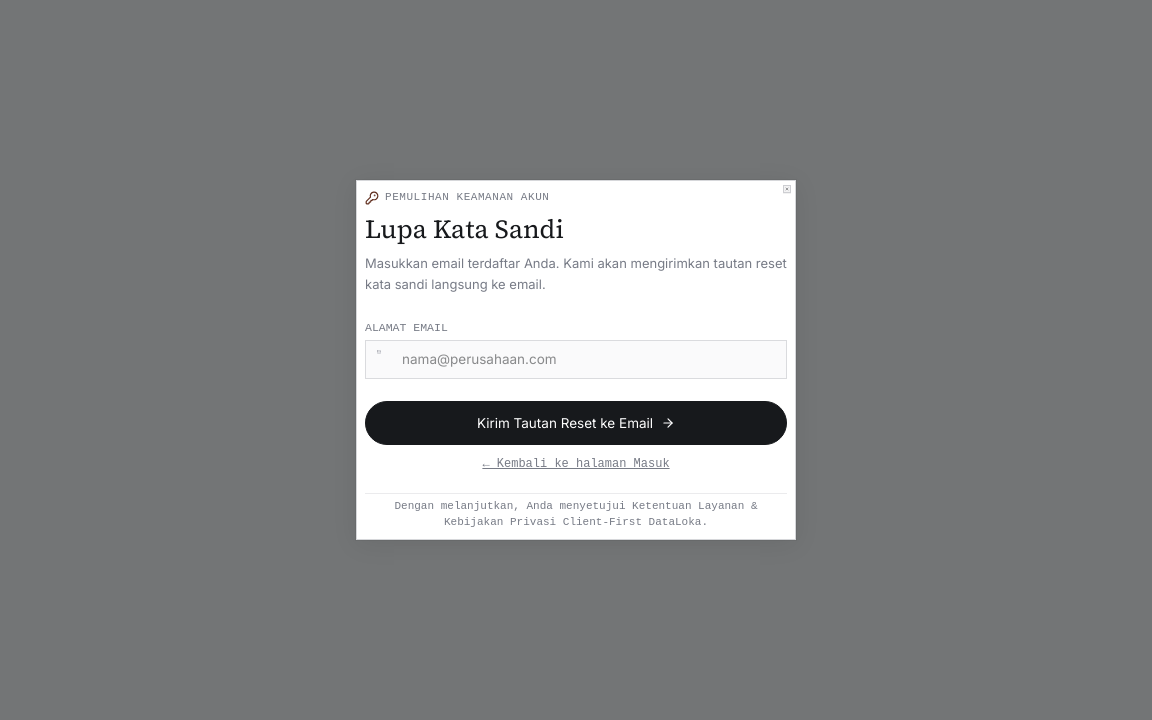
Test: Modul Firebase Auth & Cloud Workspace Storage › 3. useAuthStore & UI Components › should open Forgot Password tab and send reset email
The width and height of the screenshot is (1152, 720).
Check: the heading "Lupa Kata Sandi" is shown, box top-left (365, 211), bottom-right (564, 247)
Check: the text "Masukkan email terdaftar Anda" is shown, box top-left (365, 255), bottom-right (787, 292)
Type "forgot.user@dataloka.id" into the field with placeholder "nama@perusahaan.com". click: (576, 360)
box: top-left (365, 340), bottom-right (787, 379)
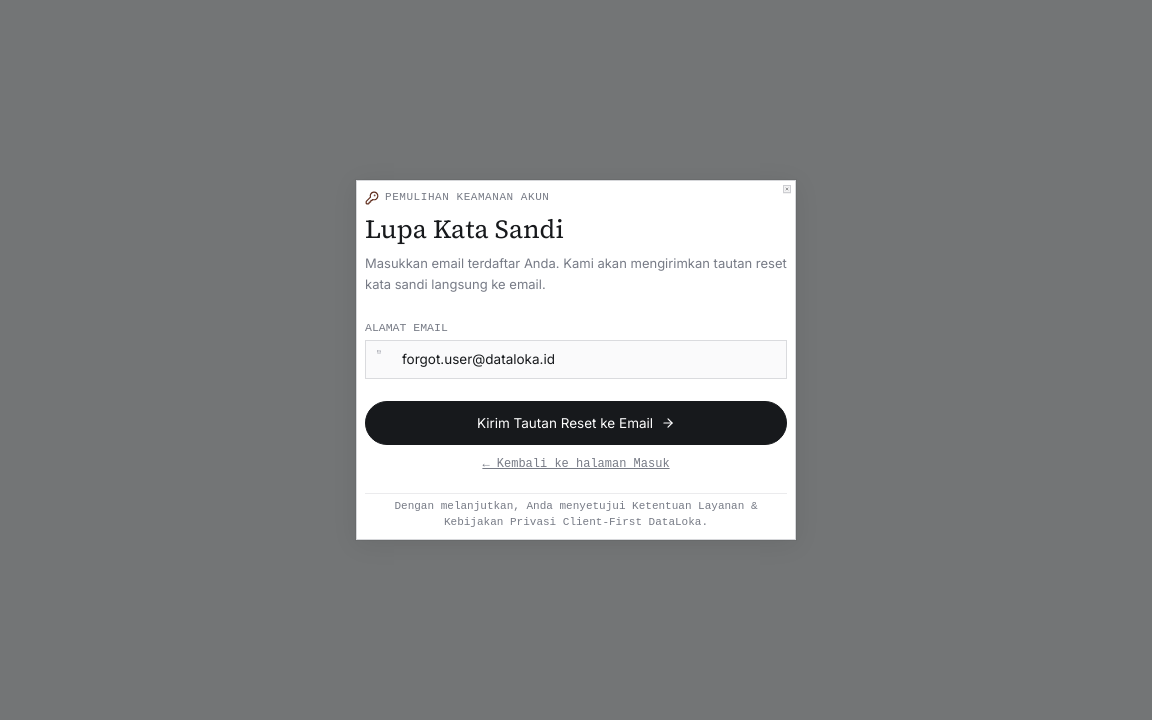
Click the button "Kirim Tautan Reset ke Email". click: click(576, 423)
box: top-left (365, 401), bottom-right (787, 445)
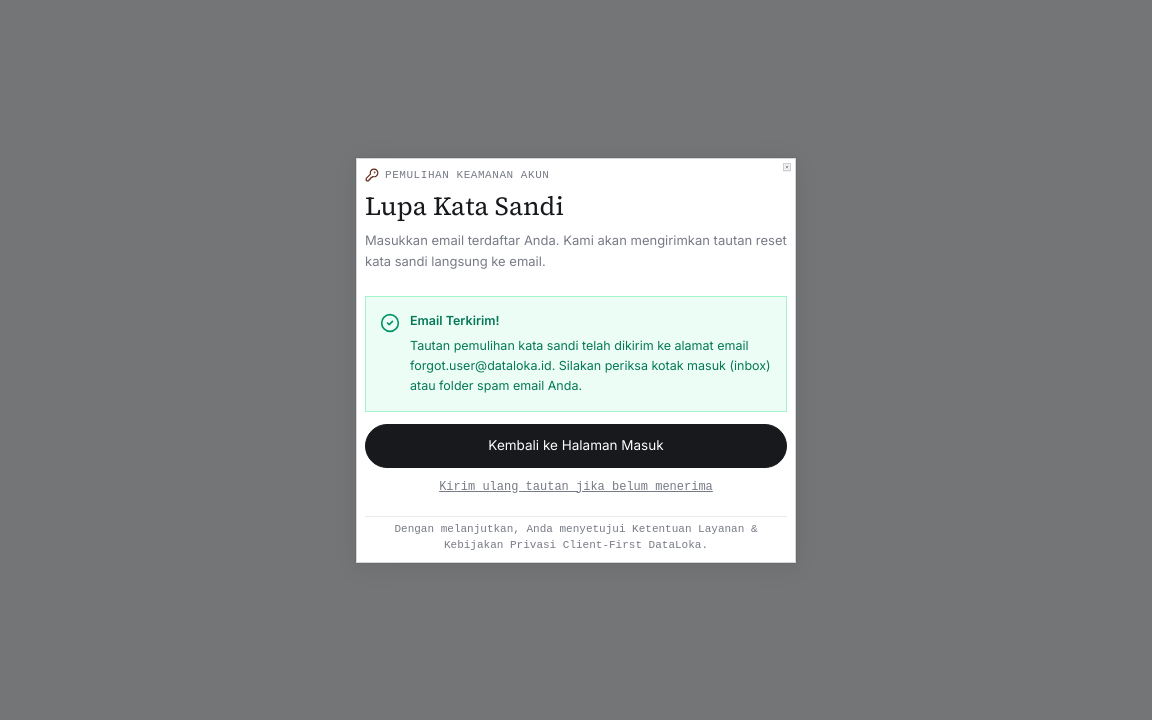
Check: the text "Email Terkirim!" is shown, box top-left (410, 313), bottom-right (500, 328)
Check: the text "forgot.user@dataloka.id" is shown, box top-left (410, 338), bottom-right (771, 393)
